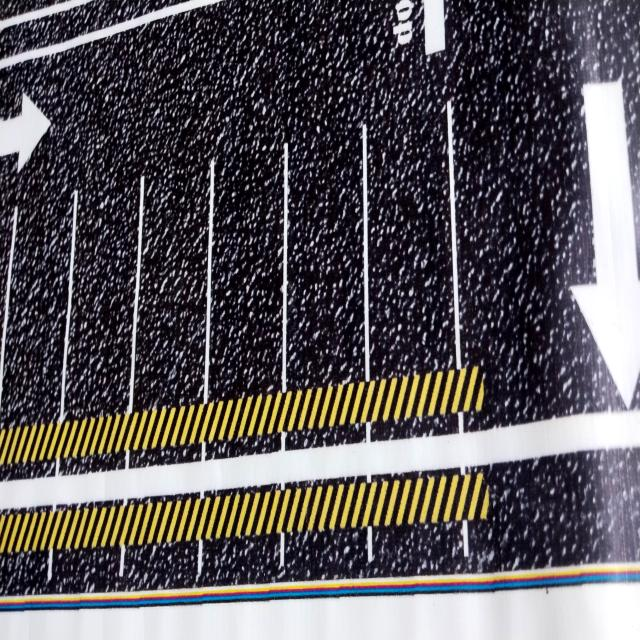slots: (368, 40, 455, 378), (209, 83, 290, 399), (0, 130, 74, 423), (134, 141, 209, 409), (289, 123, 364, 388), (66, 173, 140, 416)
